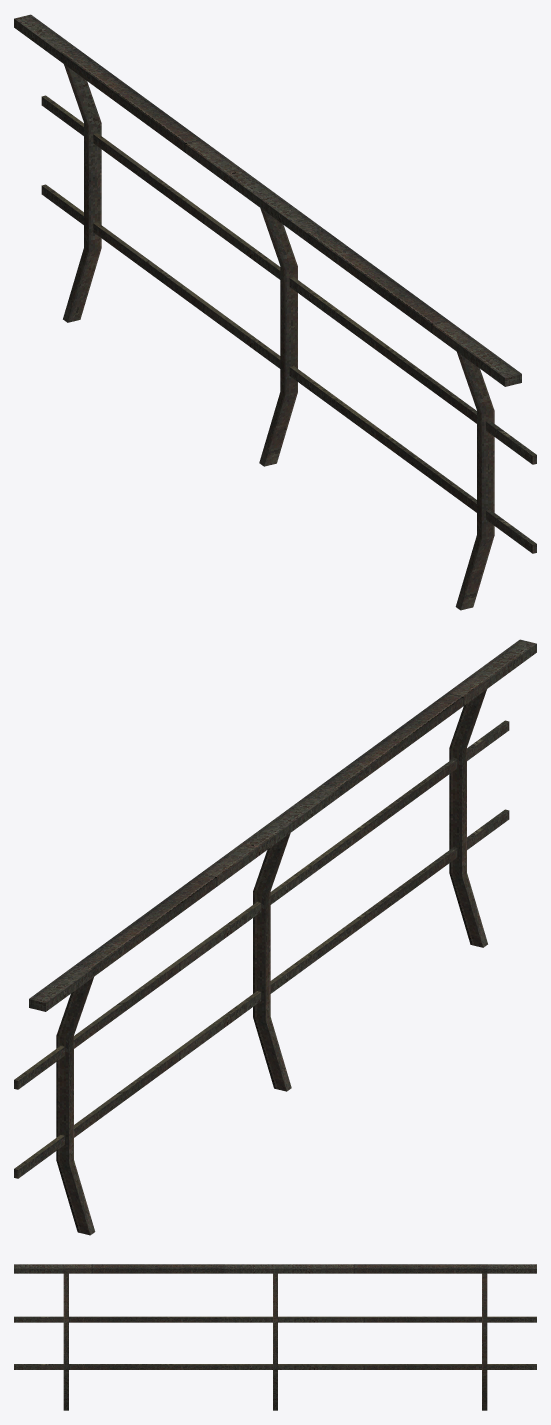
Rendered from platform_b_handrail_2.glb.
3 views of the same model, one above another, from view 1: azimuth 30°, elevation 25°; view 2: azimuth 150°, elevation 25°; view 3: azimuth 270°, elevation 25° (orthographic). The views are drawn at different scales.
Parts seen in each view (by area): view 1: platform_b_handrail_2; view 2: platform_b_handrail_2; view 3: platform_b_handrail_2.
Boxes of the visible parts, x1,y1,x2,y2 form: platform_b_handrail_2: [14, 14, 536, 610]; platform_b_handrail_2: [14, 639, 536, 1235]; platform_b_handrail_2: [14, 1264, 536, 1410].
Size of the model in its own units: 0.17 by 1.2 by 4.
1 material, 1 textured.
